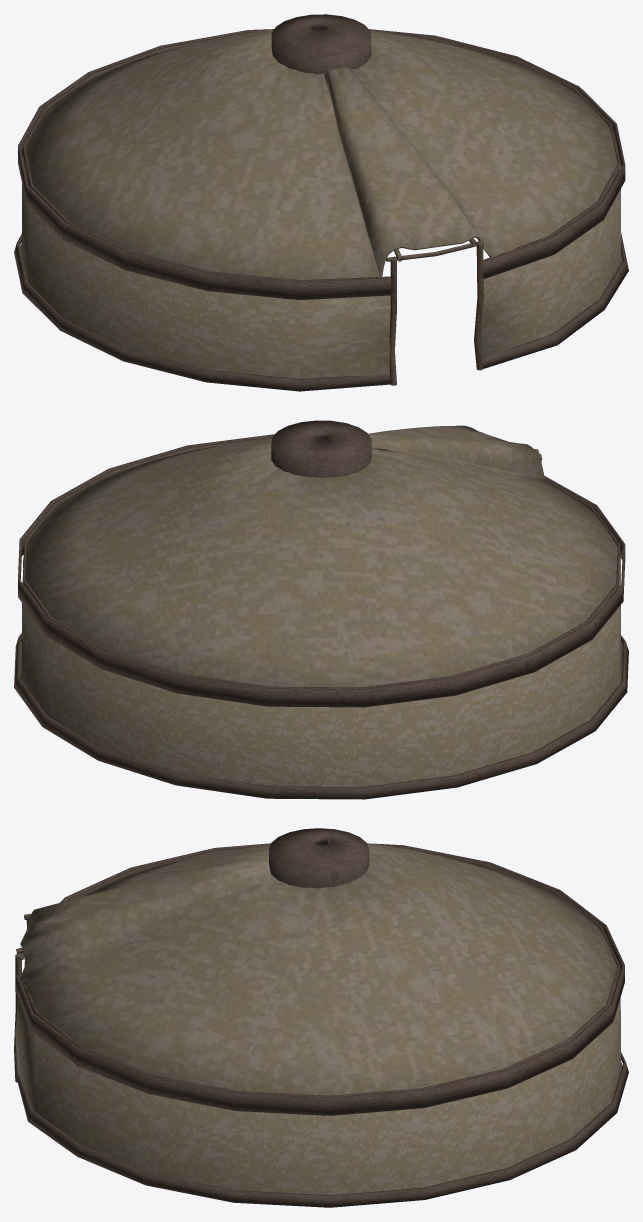
Rendered from yurtmodel.glb.
3 views of the same model, one above another, from view 1: azimuth 30°, elevation 25°; view 2: azimuth 150°, elevation 25°; view 3: azimuth 270°, elevation 25° (orthographic).
Parts seen in each view (by area): view 1: WoodSides_Frame_ColID1, WoodenFrame_wood.001 (×2), WoodenFrame_wood.002, WoodenFrame_wood.000; view 2: WoodSides_Frame_ColID1, WoodenFrame_wood.001 (×2), WoodenFrame_wood.002; view 3: WoodSides_Frame_ColID1, WoodenFrame_wood.001 (×2), WoodenFrame_wood.002.
Part boxes in pixels (x1,y1,x2,y2): WoodSides_Frame_ColID1: (25, 29, 617, 280); WoodenFrame_wood.001 (×2): (20, 14, 623, 378); WoodenFrame_wood.002: (14, 29, 628, 391); WoodenFrame_wood.000: (385, 238, 483, 385); WoodSides_Frame_ColID1: (23, 425, 620, 687); WoodenFrame_wood.001 (×2): (19, 420, 623, 786); WoodenFrame_wood.002: (14, 434, 628, 799); WoodSides_Frame_ColID1: (20, 843, 616, 1095); WoodenFrame_wood.001 (×2): (15, 828, 622, 1195); WoodenFrame_wood.002: (16, 843, 628, 1207).
Size of the model in its own units: 8.07 by 3.39 by 8.01.
6 materials, 6 textured.
